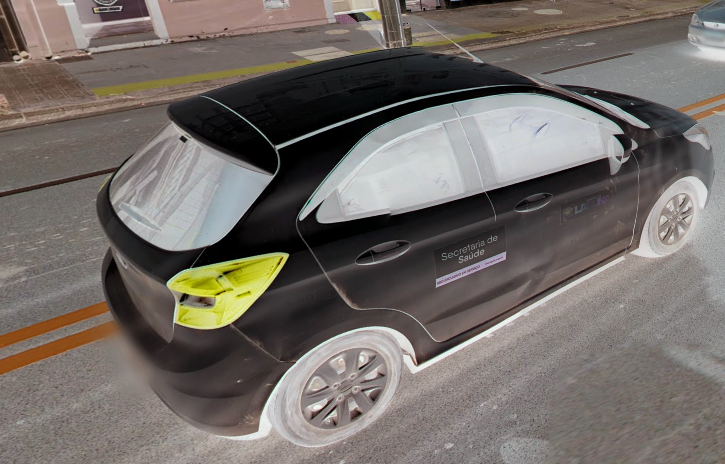car: (94, 48, 714, 448)
